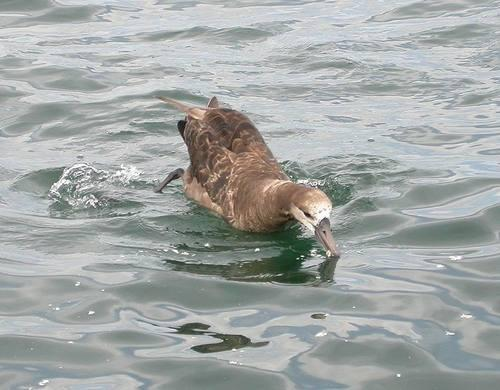001.Black_footed_Albatross: (156, 91, 340, 267)
